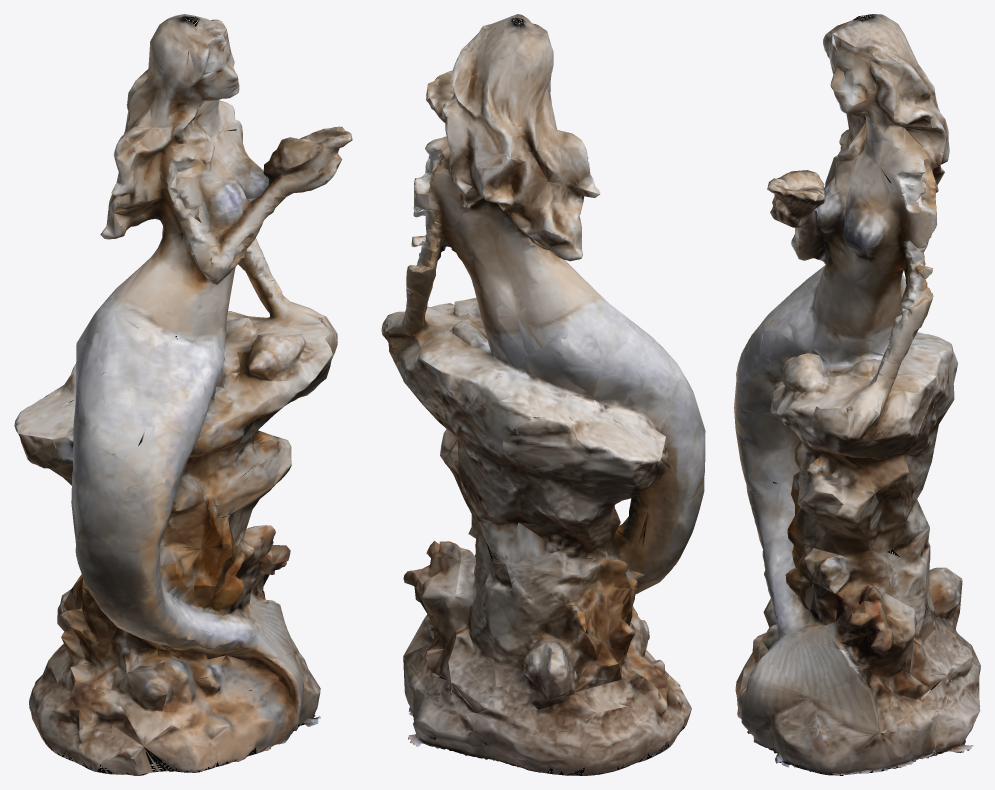
Rendered from mermaid_3dscan.glb.
The picture shows the model from 3 angles, left to right: view 1: azimuth 30°, elevation 25°; view 2: azimuth 150°, elevation 25°; view 3: azimuth 270°, elevation 25°; orthographic projection.
Visible parts, largest first — view 1: Object_2, Object_3; view 2: Object_2, Object_3; view 3: Object_2, Object_3.
Part boxes in pixels (x1,y1,x2,y2): Object_2: [14, 14, 349, 775]; Object_3: [30, 16, 352, 775]; Object_2: [381, 17, 705, 775]; Object_3: [420, 14, 690, 769]; Object_2: [734, 15, 980, 775]; Object_3: [736, 14, 980, 775].
Bounding box in the file's own units: 15.24 × 34 × 10.77.
1 material, 1 textured.
